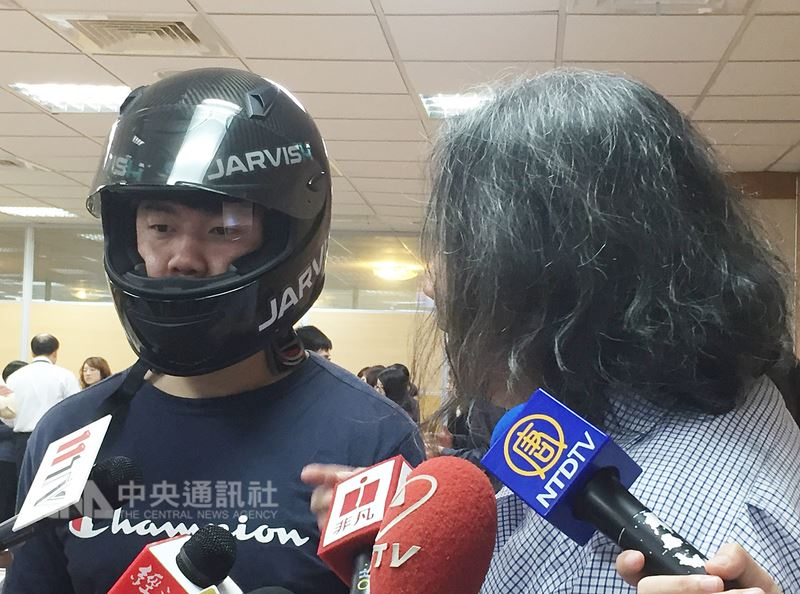helmet: (87, 96, 354, 353)
